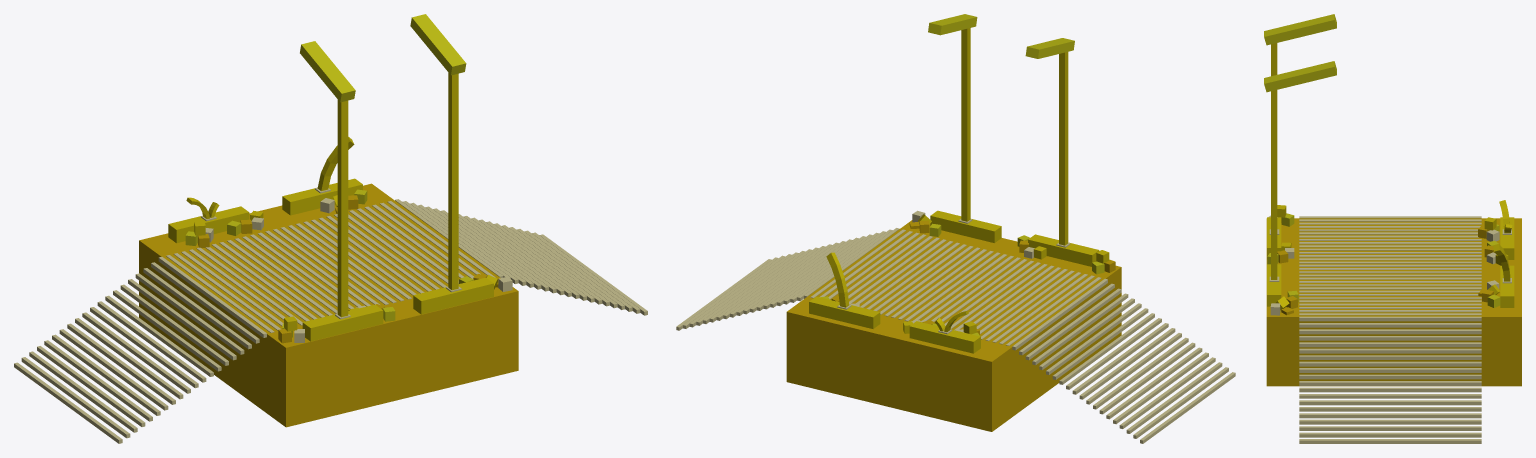
The picture shows the model from 3 angles, left to right: view 1: azimuth 30°, elevation 25°; view 2: azimuth 150°, elevation 25°; view 3: azimuth 270°, elevation 25°; orthographic projection. The views are drawn at different scales.
Visible parts, largest first — view 1: plv1; view 2: plv1; view 3: plv1.
Part boxes in pixels (x1,y1,x2,y2): plv1: [14, 14, 647, 443]; plv1: [676, 14, 1235, 443]; plv1: [1264, 14, 1521, 443].
Size of the model in its own units: 14.55 by 9 by 7.07.
